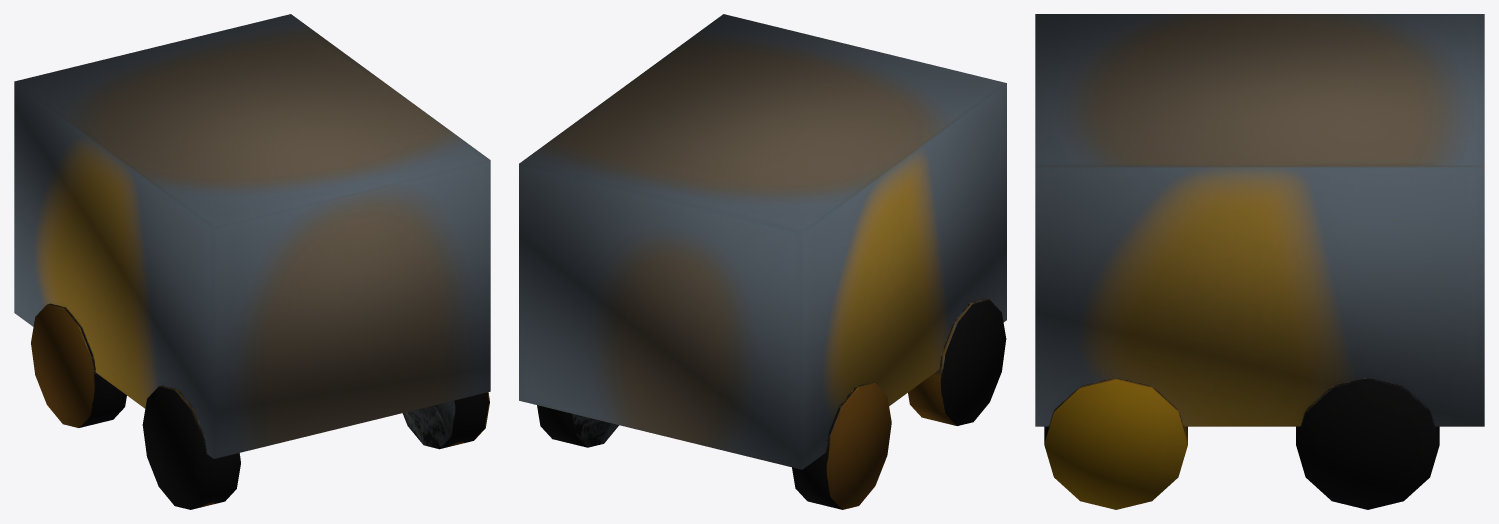
The model's file is yard-jockey-body-tripo-original.glb.
3 views of the same model, side by side, from view 1: azimuth 30°, elevation 25°; view 2: azimuth 150°, elevation 25°; view 3: azimuth 270°, elevation 25° (orthographic). The views are drawn at different scales.
Parts seen in each view (by area): view 1: Authored_surface_020; view 2: Authored_surface_020; view 3: Authored_surface_020.
Part boxes in pixels (x1=…): Authored_surface_020: x1=14, y1=14, x2=490, y2=509; Authored_surface_020: x1=519, y1=14, x2=1006, y2=509; Authored_surface_020: x1=1035, y1=14, x2=1484, y2=509.
Bounding box in the file's own units: 0.82 × 0.84 × 1.
1 material, 1 textured.
